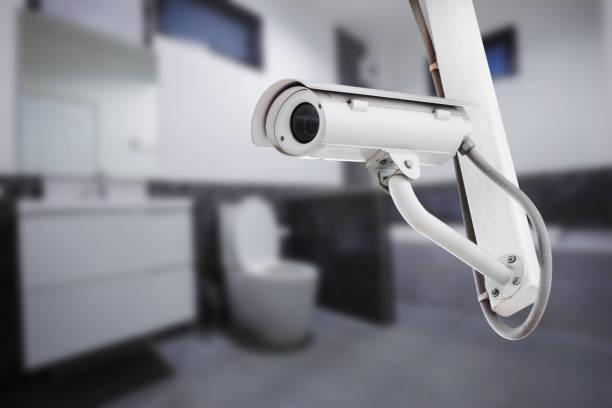camera: (238, 61, 482, 208)
